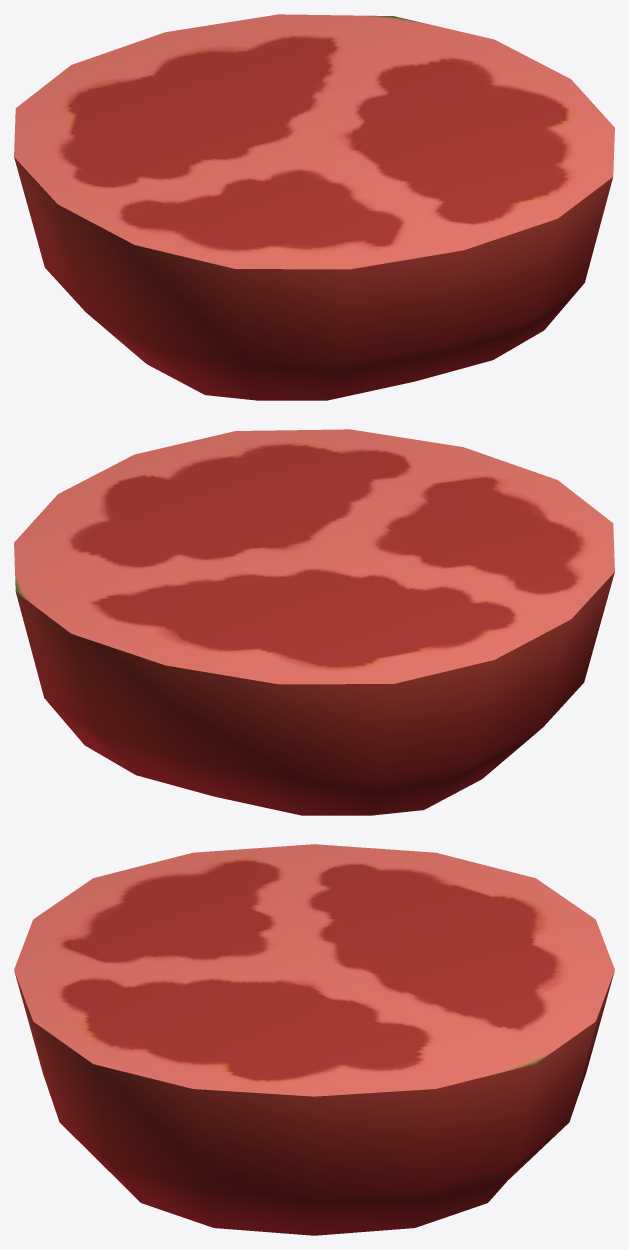
Rendered from Tomato_Slice_01.glb.
The picture shows the model from 3 angles, top to bottom: view 1: azimuth 30°, elevation 25°; view 2: azimuth 150°, elevation 25°; view 3: azimuth 270°, elevation 25°; orthographic projection.
Visible parts, largest first — view 1: Tomato_Slice_01; view 2: Tomato_Slice_01; view 3: Tomato_Slice_01.
Boxes of the visible parts, x1=… form: Tomato_Slice_01: x1=14, y1=14, x2=614, y2=400; Tomato_Slice_01: x1=14, y1=429, x2=614, y2=815; Tomato_Slice_01: x1=14, y1=844, x2=614, y2=1235.
Size of the model in its own units: 0.2659 by 0.1003 by 0.2676.
Materials: 1 (1 with a texture image).
